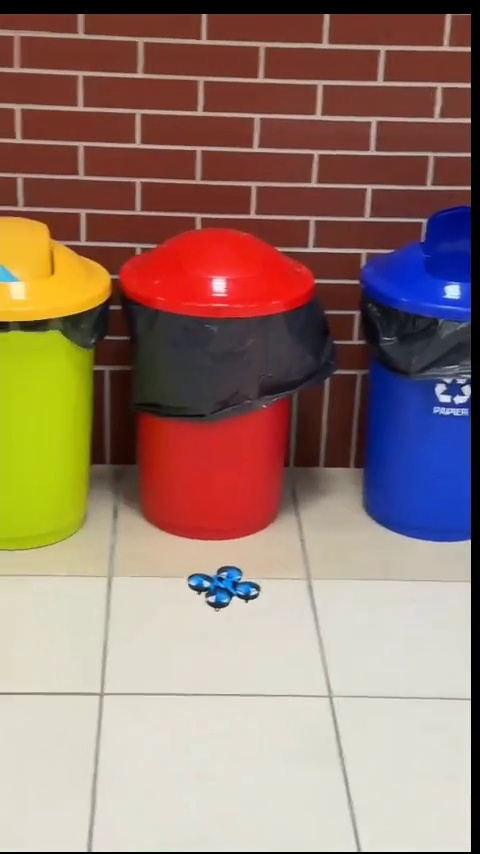drone: (187, 565, 260, 613)
